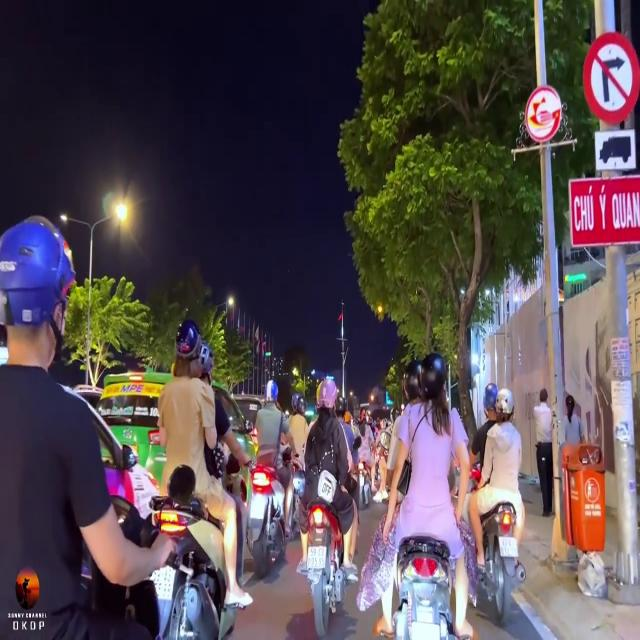bien_trang: (306, 544, 326, 568)
